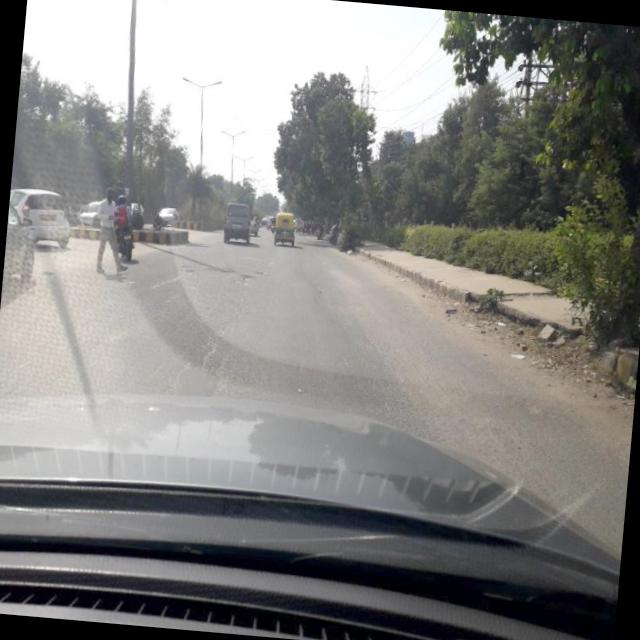pothole: (168, 281, 250, 395)
